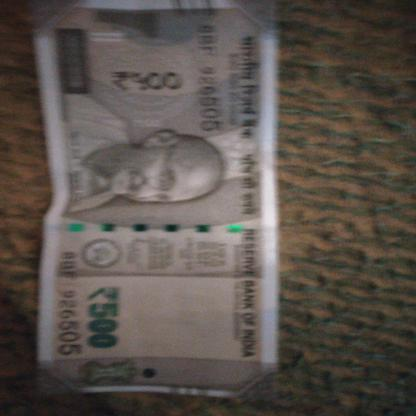New500Front: (45, 6, 270, 396)
